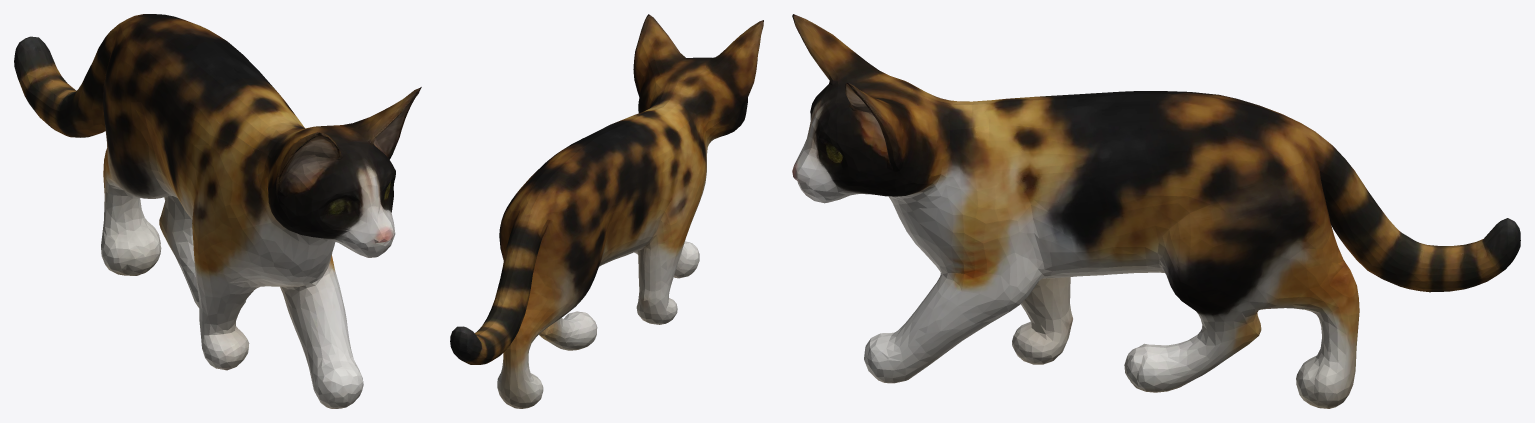
3 views of the same model, side by side, from view 1: azimuth 30°, elevation 25°; view 2: azimuth 150°, elevation 25°; view 3: azimuth 270°, elevation 25° (orthographic). The views are drawn at different scales.
Visible parts, largest first — view 1: geometry_0; view 2: geometry_0; view 3: geometry_0.
Boxes of the visible parts, x1,y1,x2,y2 form: geometry_0: (14,14,421,408); geometry_0: (450,14,763,408); geometry_0: (792,14,1520,408).
Bounding box in the file's own units: 0.2355 × 0.5398 × 0.9997.
1 material, 1 textured.
